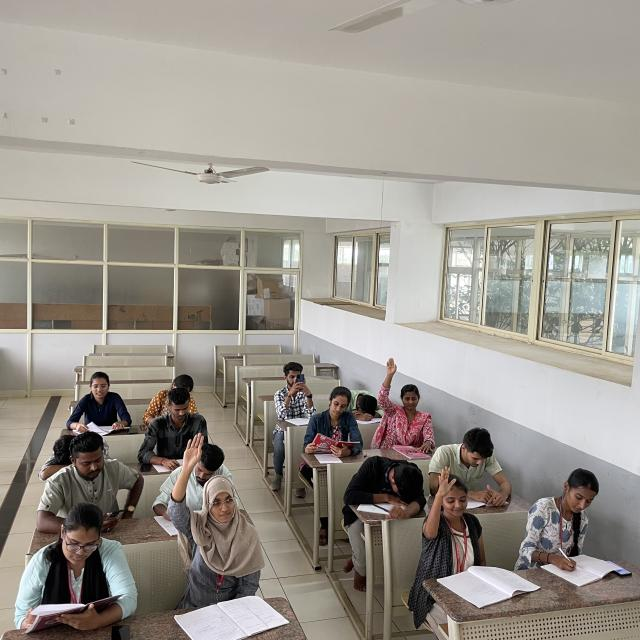Hand Rising: (162, 434, 286, 603), (416, 465, 504, 574), (368, 353, 447, 445)
Reading: (10, 501, 150, 640), (428, 425, 520, 503), (60, 367, 141, 436), (140, 397, 213, 469), (308, 398, 375, 460)
Sleeping: (342, 444, 434, 526), (35, 431, 124, 474), (338, 379, 392, 425)
Using Phone: (44, 438, 145, 529), (258, 361, 329, 427)
Writing: (514, 463, 620, 585), (154, 439, 216, 536)
